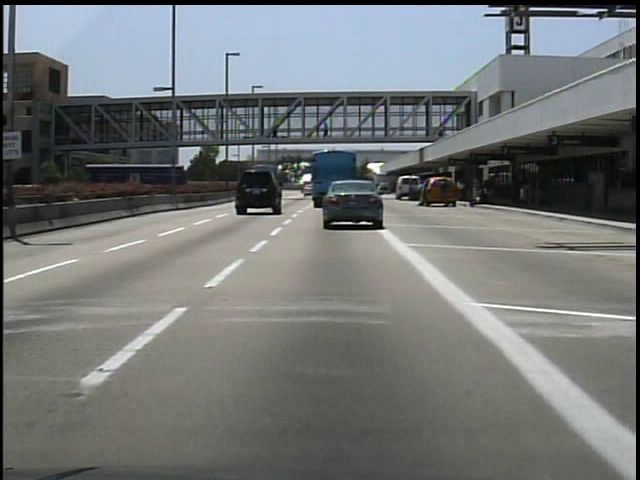person: (438, 176, 455, 211), (320, 118, 333, 144), (270, 117, 284, 139)
